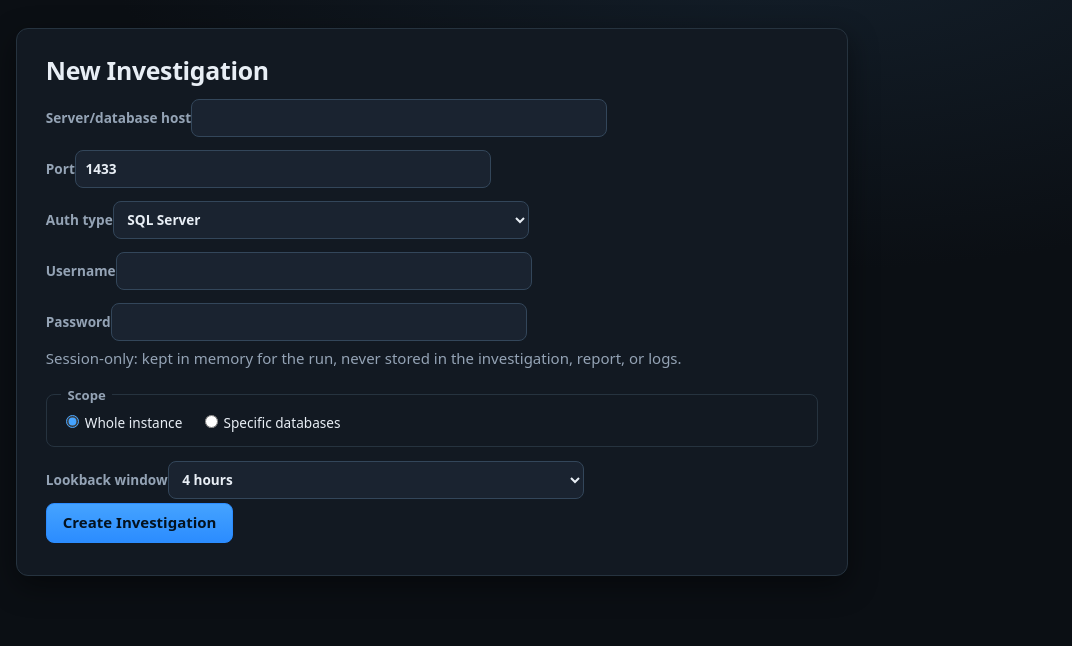
Scenario: ConnectionScopeForm › maps a 422 response back onto the offending field
In the field labelled "Server/database host": (399, 118) [191,99,607,137], type "sql02.acme.example"
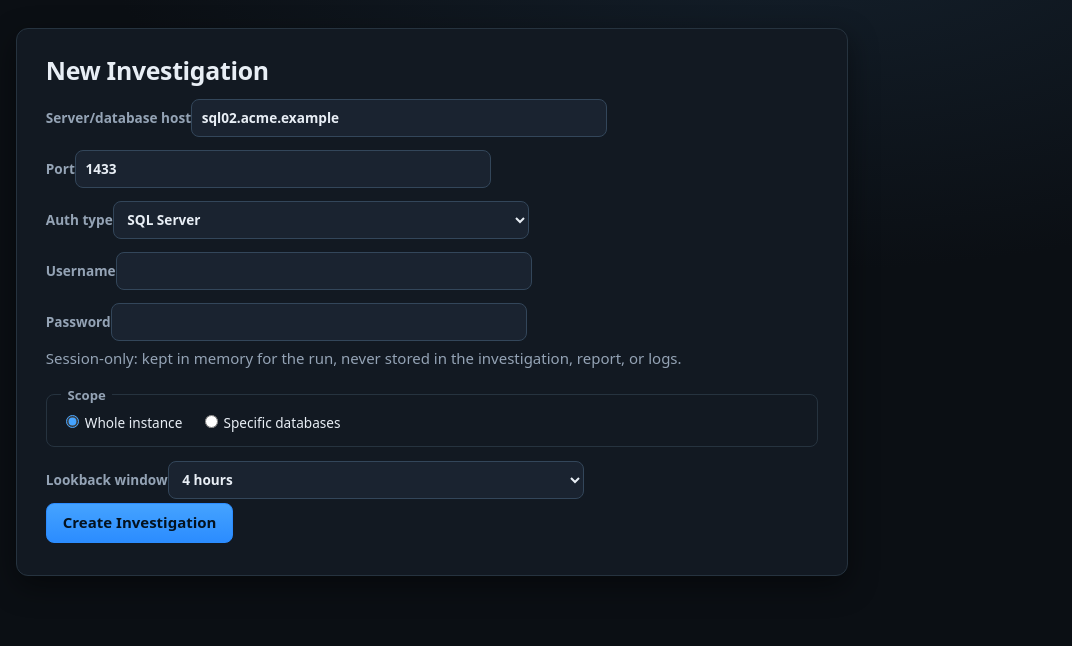
In the password field labelled "Password": (319, 322) [111,303,527,341], type "s3cret-pass"
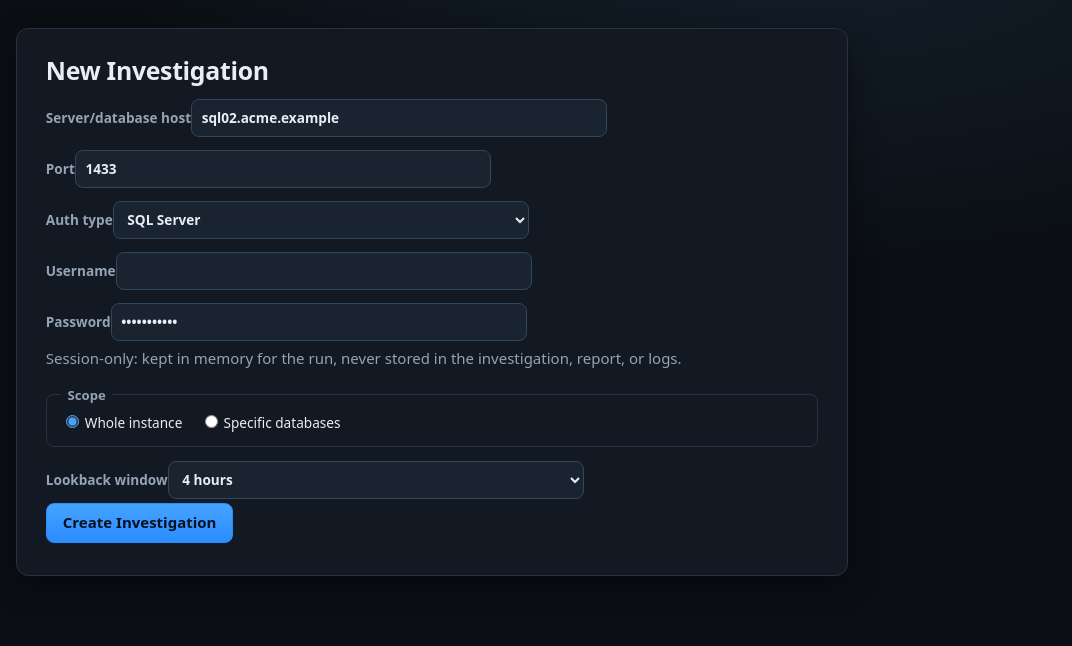
Click the button "Create Investigation": (140, 523) [46,503,234,543]
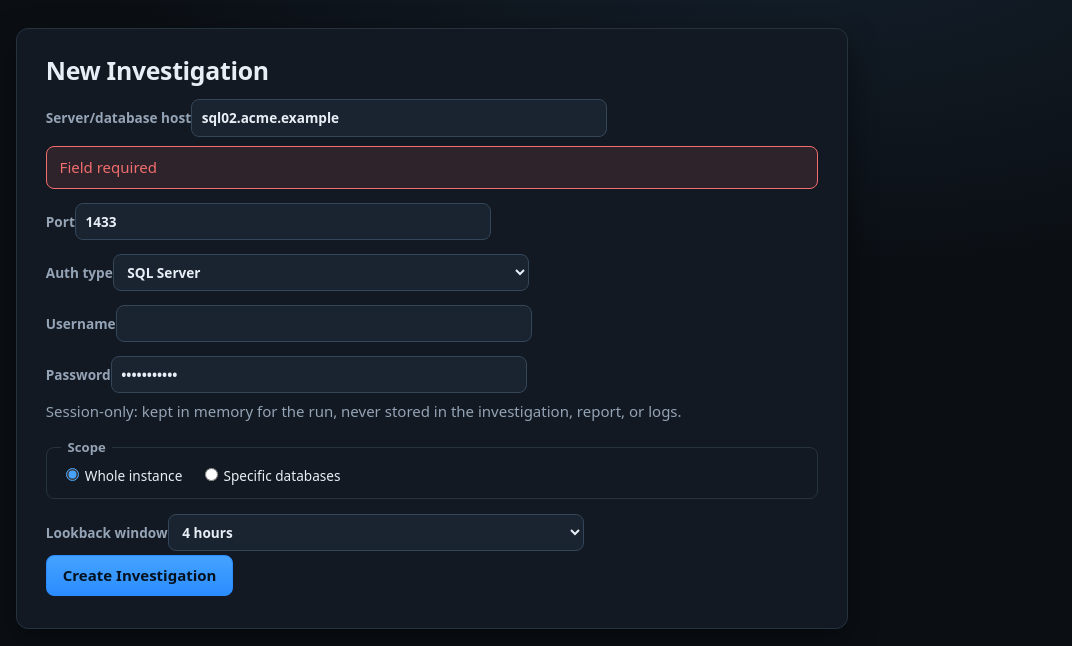
Expected: the text "Field required" is shown, [46,146,818,189]
